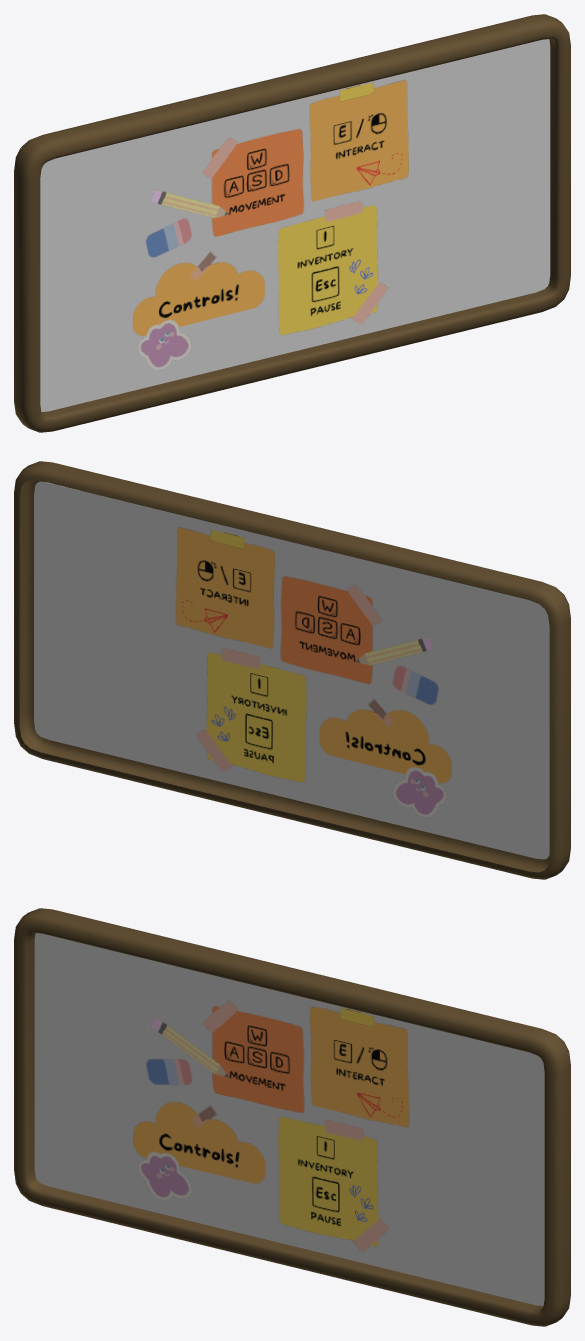
The model's file is Pen_Board.fbx.
3 renders of one model, top to bottom at view 1: azimuth 30°, elevation 25°; view 2: azimuth 150°, elevation 25°; view 3: azimuth 330°, elevation 25°, orthographic.
Visible parts, largest first — view 1: Pen_Board; view 2: Pen_Board; view 3: Pen_Board.
Boxes of the visible parts, bbox=[...] form: Pen_Board: bbox=[14, 14, 570, 432]; Pen_Board: bbox=[14, 461, 570, 879]; Pen_Board: bbox=[14, 908, 570, 1326].
Bounding box in the file's own units: 80.83 × 40.98 × 3.99.
